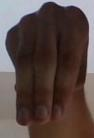M: (1, 0, 94, 138)
